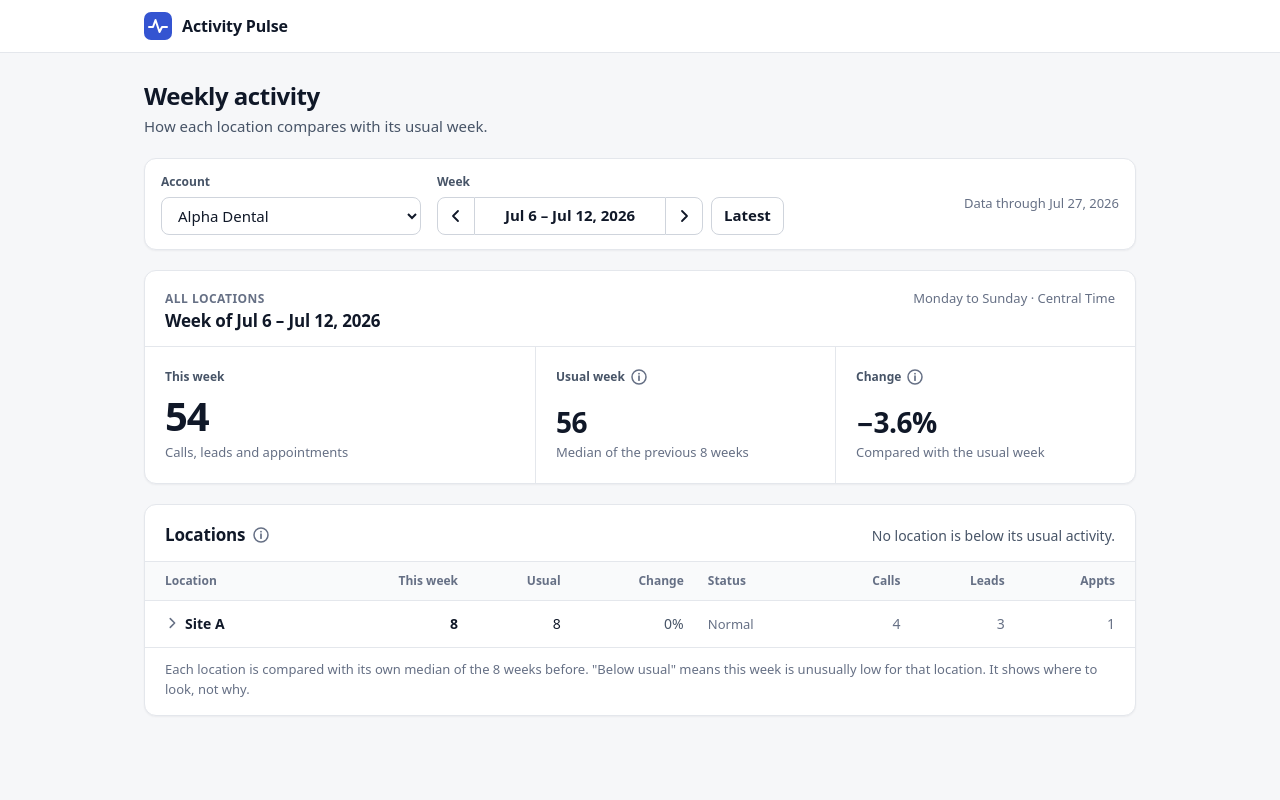
week navigation › reaches the latest week with Next and then disables it
Expected: the heading "Week of Jul 6 – Jul 12, 2026" is shown, x1=165 y1=310 x2=380 y2=332
Click the button named "Next week" at [684, 216], box x1=665 y1=196 x2=703 y2=234
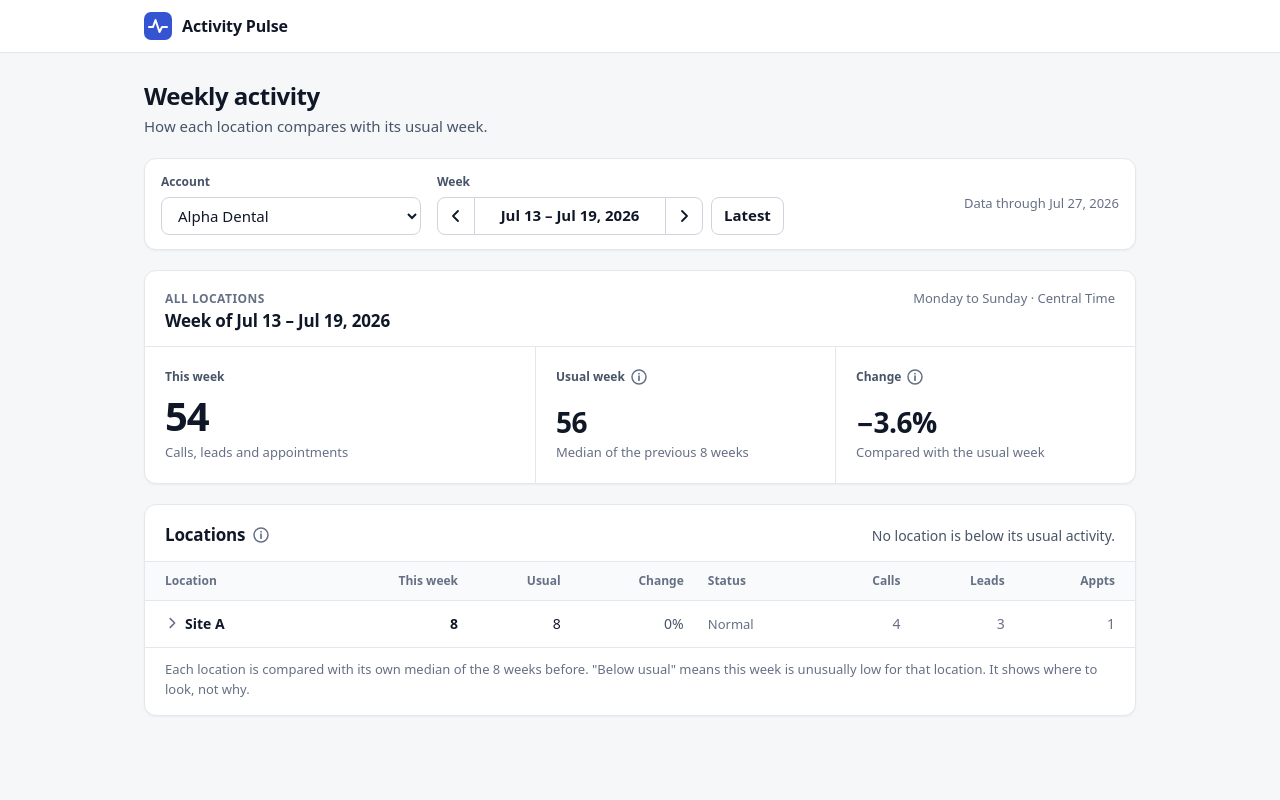
Click the button named "Next week" at [684, 216], box x1=665 y1=196 x2=703 y2=234
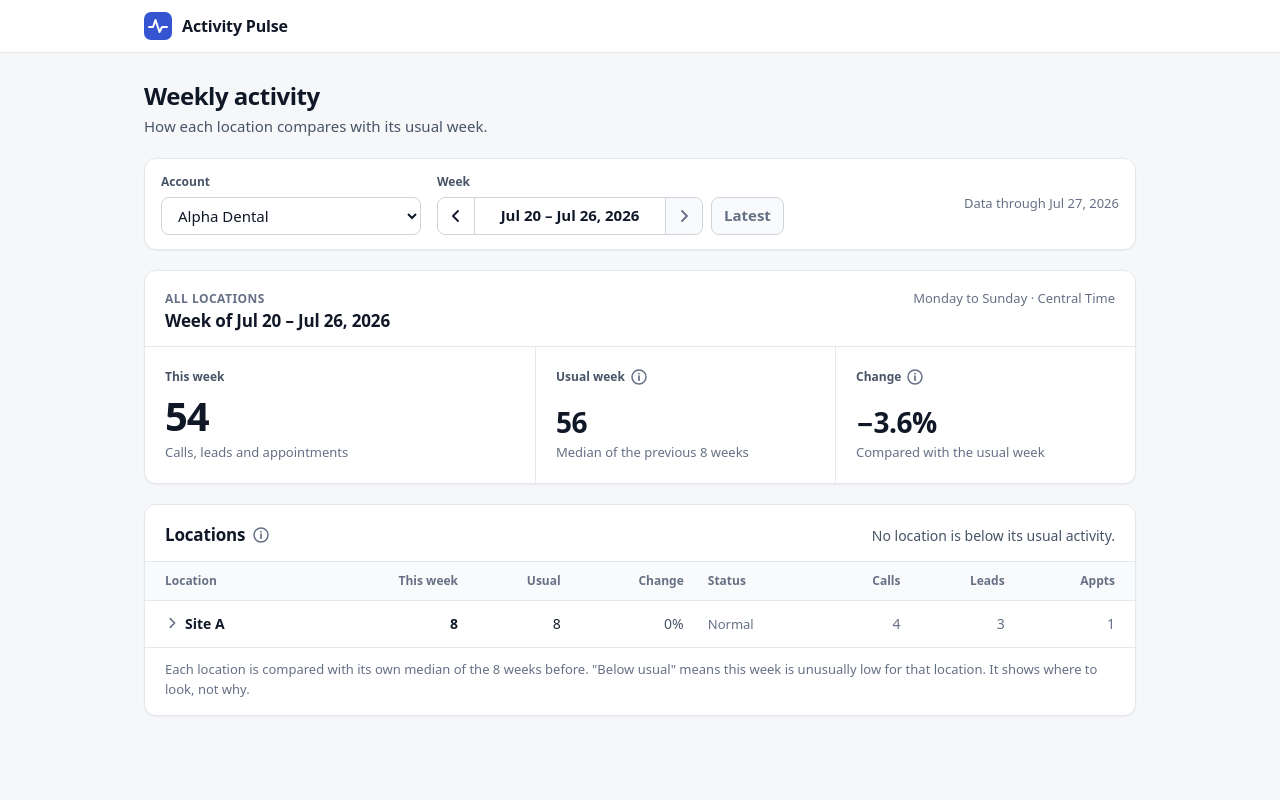
Expected: the heading "Week of Jul 20 – Jul 26, 2026" is shown, x1=165 y1=310 x2=390 y2=332
Expected: the button named "Next week" is disabled, x1=665 y1=196 x2=703 y2=234
Expected: the button "Latest" is disabled, x1=711 y1=196 x2=784 y2=234
